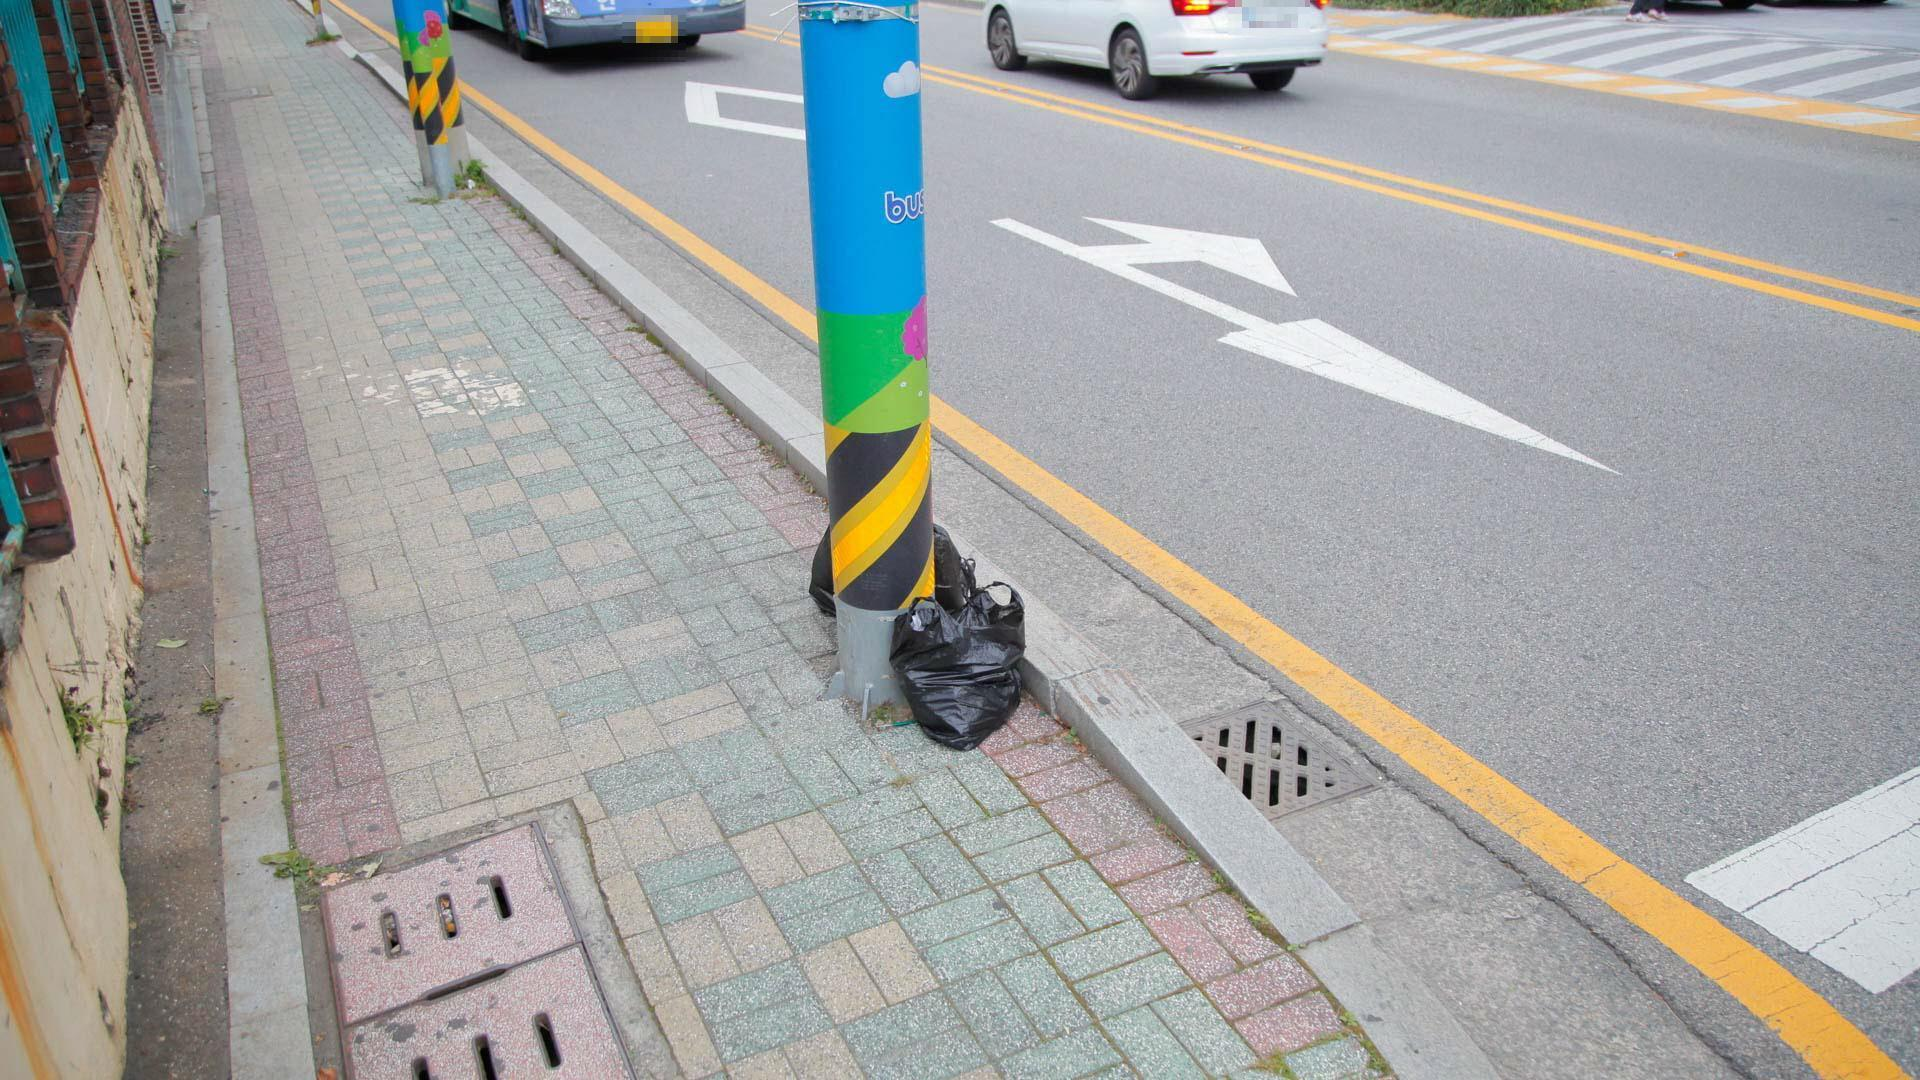black_bag: (873, 567, 1040, 756)
